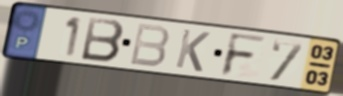1: (63, 15, 82, 59)
7: (269, 37, 306, 83)
B: (78, 15, 127, 65), (127, 22, 172, 69)
F: (218, 31, 269, 79)
K: (173, 27, 213, 75)
